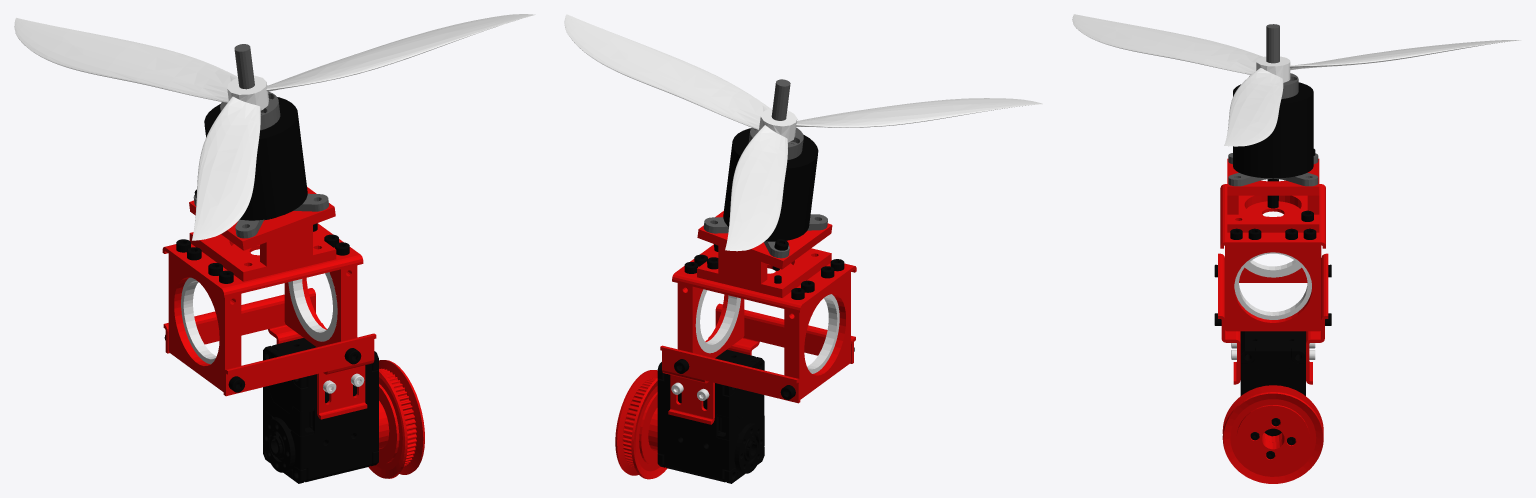
The model's file is roll_gimbal_module.dae.
3 renders of one model, left to right at view 1: azimuth 30°, elevation 25°; view 2: azimuth 150°, elevation 25°; view 3: azimuth 270°, elevation 25°, orthographic. The views are drawn at different scales.
Visible parts, largest first — view 1: roll_gimbal_module - 9inch_prop-1, roll_gimbal_module - XL-430_new-1 XL-430_new.stp-1 DC11_A01_ (×2), roll_gimbal_module - motor_mount-4, roll_gimbal_module - gimbal_servo_holder_side-1, roll_gimbal_module - t_motor_at2814_asm-1 t_motor_at2814-1, roll_gimbal_module - gimbal_servo_pulley_HTPA60S2M040-A-H10_ (×2), roll_gimbal_module - gimbal_roll_holder_PLA-2, roll_gimbal_module - gimbal_upper_plate-1, roll_gimbal_module - gimbal_roll_holder_PLA-1, roll_gimbal_module - gimbal_servo_holder_side_mirror-1, roll_gimbal_module - 6706_handmade-1, roll_gimbal_module - t_motor_at2814_asm-1 t_motor_at2814_sha (+3 smaller); view 2: roll_gimbal_module - 9inch_prop-1, roll_gimbal_module - XL-430_new-1 XL-430_new.stp-1 DC11_A01_ (×2), roll_gimbal_module - motor_mount-4, roll_gimbal_module - gimbal_servo_holder_side_mirror-1, roll_gimbal_module - gimbal_servo_pulley_HTPA60S2M040-A-H10_ (×2), roll_gimbal_module - gimbal_roll_holder_PLA-2, roll_gimbal_module - t_motor_at2814_asm-1 t_motor_at2814-1, roll_gimbal_module - gimbal_upper_plate-1, roll_gimbal_module - gimbal_roll_holder_PLA-1, roll_gimbal_module - gimbal_servo_holder_side-1, roll_gimbal_module - 6706_handmade-1, roll_gimbal_module - t_motor_at2814_asm-1 t_motor_at2814_sha (+3 smaller); view 3: roll_gimbal_module - 9inch_prop-1, roll_gimbal_module - gimbal_servo_pulley_HTPA60S2M040-A-H10_ (×2), roll_gimbal_module - t_motor_at2814_asm-1 t_motor_at2814-1, roll_gimbal_module - gimbal_roll_holder_PLA-1, roll_gimbal_module - motor_mount-4, roll_gimbal_module - XL-430_new-1 XL-430_new.stp-1 DC11_A01_, roll_gimbal_module - gimbal_upper_plate-1, roll_gimbal_module - 6706_handmade-1, roll_gimbal_module - gimbal_servo_holder_side_mirror-1, roll_gimbal_module - gimbal_servo_holder_side-1, roll_gimbal_module - t_motor_at2814_asm-1 t_motor_at2814_sha, roll_gimbal_module - t_motor_at2814_asm-1 t_motor_at2814_mou (+2 smaller).
Part boxes in pixels (x1,y1,x2,y2): roll_gimbal_module - 9inch_prop-1: (14, 14, 535, 240); roll_gimbal_module - XL-430_new-1 XL-430_new.stp-1 DC11_A01_ (×2): (263, 338, 378, 482); roll_gimbal_module - motor_mount-4: (189, 187, 336, 281); roll_gimbal_module - gimbal_servo_holder_side-1: (223, 333, 376, 419); roll_gimbal_module - t_motor_at2814_asm-1 t_motor_at2814-1: (204, 97, 307, 220); roll_gimbal_module - gimbal_servo_pulley_HTPA60S2M040-A-H10_ (×2): (368, 360, 424, 478); roll_gimbal_module - gimbal_roll_holder_PLA-2: (168, 254, 241, 391); roll_gimbal_module - gimbal_upper_plate-1: (162, 223, 363, 297); roll_gimbal_module - gimbal_roll_holder_PLA-1: (284, 265, 357, 347); roll_gimbal_module - gimbal_servo_holder_side_mirror-1: (163, 288, 323, 353); roll_gimbal_module - 6706_handmade-1: (288, 272, 337, 341); roll_gimbal_module - t_motor_at2814_asm-1 t_motor_at2814_sha: (220, 44, 280, 130); roll_gimbal_module - 9inch_prop-1: (564, 14, 1042, 251); roll_gimbal_module - XL-430_new-1 XL-430_new.stp-1 DC11_A01_ (×2): (657, 349, 764, 482); roll_gimbal_module - motor_mount-4: (697, 211, 832, 297); roll_gimbal_module - gimbal_servo_holder_side_mirror-1: (660, 345, 800, 424); roll_gimbal_module - gimbal_servo_pulley_HTPA60S2M040-A-H10_ (×2): (615, 370, 667, 479); roll_gimbal_module - gimbal_roll_holder_PLA-2: (784, 272, 850, 399); roll_gimbal_module - t_motor_at2814_asm-1 t_motor_at2814-1: (723, 128, 818, 241); roll_gimbal_module - gimbal_upper_plate-1: (672, 244, 856, 312); roll_gimbal_module - gimbal_roll_holder_PLA-1: (677, 283, 744, 358); roll_gimbal_module - gimbal_servo_holder_side-1: (708, 303, 855, 363); roll_gimbal_module - 6706_handmade-1: (695, 289, 740, 353); roll_gimbal_module - t_motor_at2814_asm-1 t_motor_at2814_sha: (748, 79, 803, 160); roll_gimbal_module - 9inch_prop-1: (1072, 14, 1521, 146); roll_gimbal_module - gimbal_servo_pulley_HTPA60S2M040-A-H10_ (×2): (1222, 385, 1323, 483); roll_gimbal_module - t_motor_at2814_asm-1 t_motor_at2814-1: (1233, 82, 1313, 208); roll_gimbal_module - gimbal_roll_holder_PLA-1: (1225, 245, 1321, 331); roll_gimbal_module - motor_mount-4: (1227, 158, 1319, 232); roll_gimbal_module - XL-430_new-1 XL-430_new.stp-1 DC11_A01_: (1240, 331, 1305, 436); roll_gimbal_module - gimbal_upper_plate-1: (1220, 184, 1325, 248); roll_gimbal_module - 6706_handmade-1: (1234, 252, 1311, 319); roll_gimbal_module - gimbal_servo_holder_side_mirror-1: (1306, 253, 1328, 384); roll_gimbal_module - gimbal_servo_holder_side-1: (1218, 253, 1240, 384); roll_gimbal_module - t_motor_at2814_asm-1 t_motor_at2814_sha: (1249, 24, 1298, 98); roll_gimbal_module - t_motor_at2814_asm-1 t_motor_at2814_mou: (1228, 153, 1318, 186).
Bounding box in the file's own units: 0.1859 × 0.1957 × 0.1898.
